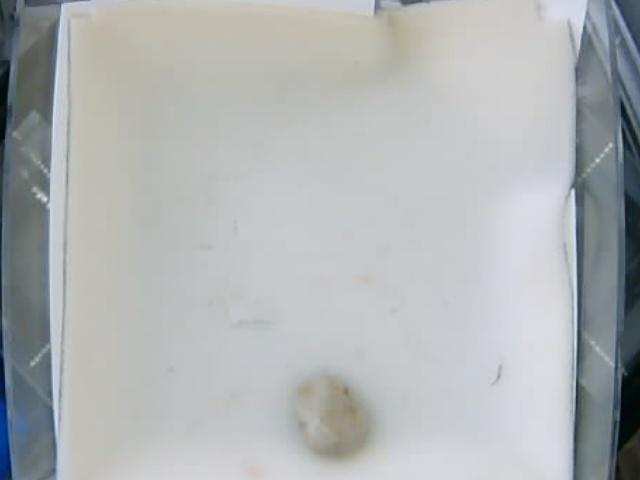Pebble: (293, 374, 370, 457)
